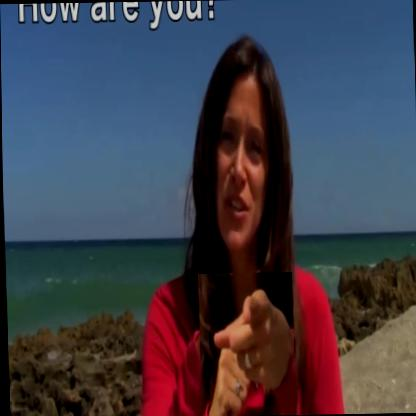HowAreYou: (196, 271, 294, 416)
